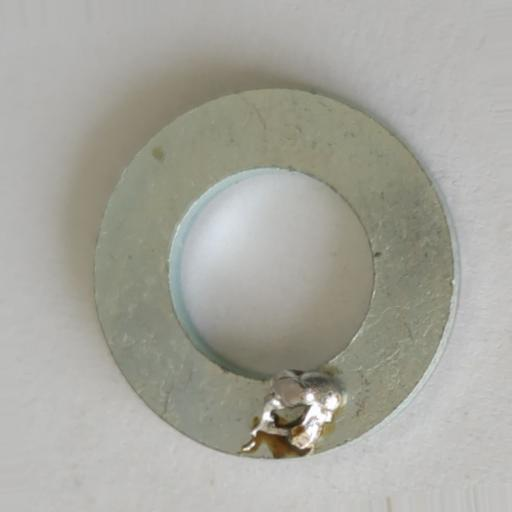excess_material: (238, 366, 349, 456)
